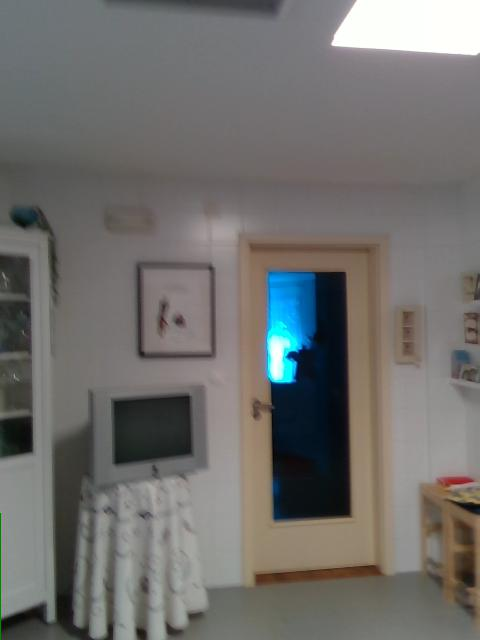door: (239, 235, 391, 586)
